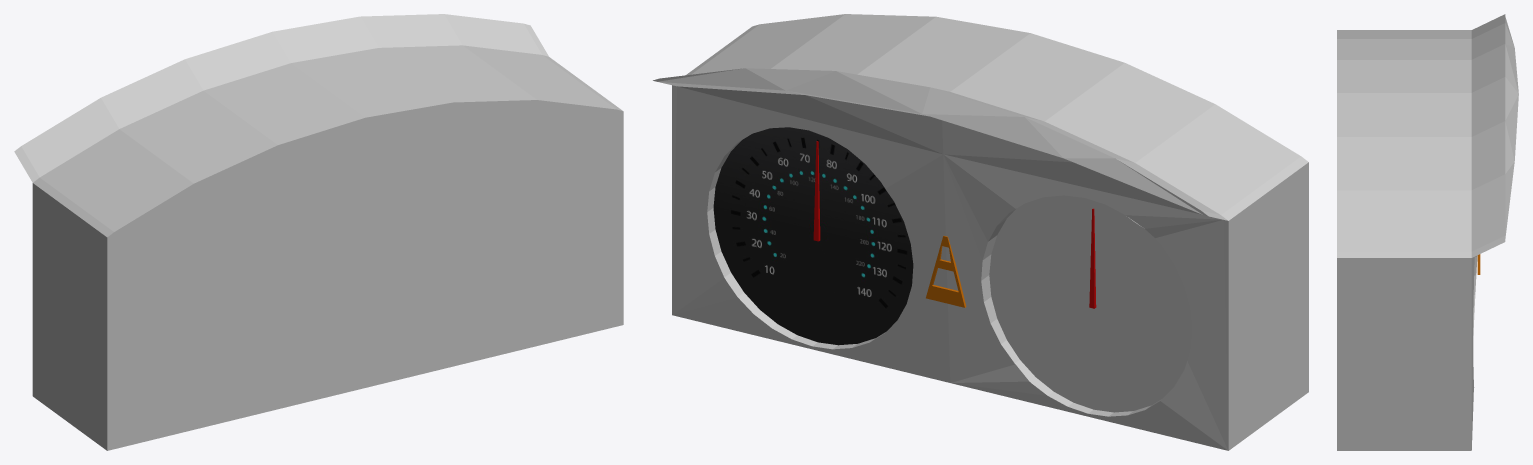
Rendered from armaturka.obj.
The picture shows the model from 3 angles, left to right: view 1: azimuth 30°, elevation 25°; view 2: azimuth 150°, elevation 25°; view 3: azimuth 270°, elevation 25°; orthographic projection. The views are drawn at different scales.
Visible parts, largest first — view 1: Armaturka; view 2: Armaturka, Lučka_gradbišče; view 3: Armaturka.
Part boxes in pixels (x1,y1,x2,y2): Armaturka: (14, 14, 623, 450); Armaturka: (653, 14, 1308, 450); Lučka_gradbišče: (926, 236, 966, 307); Armaturka: (1337, 14, 1518, 450).
Bounding box in the file's own units: 0.8 × 0.4264 × 0.27.
Materials: 4 (1 with a texture image).
